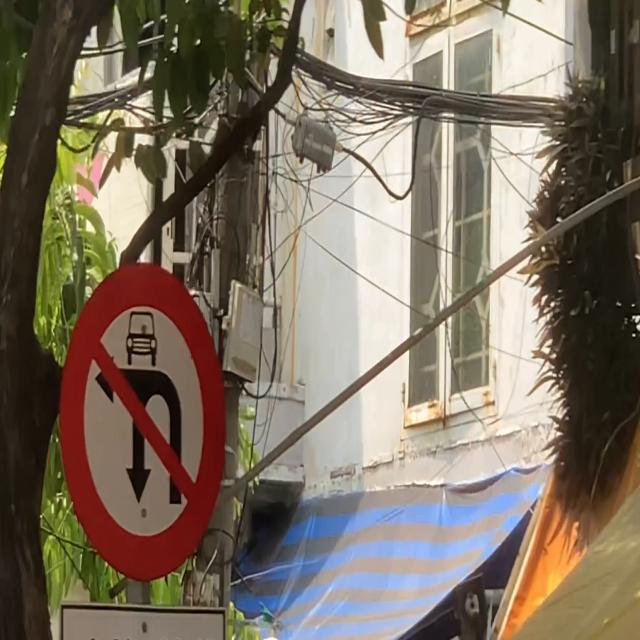Cam con lai: (55, 262, 227, 582)
